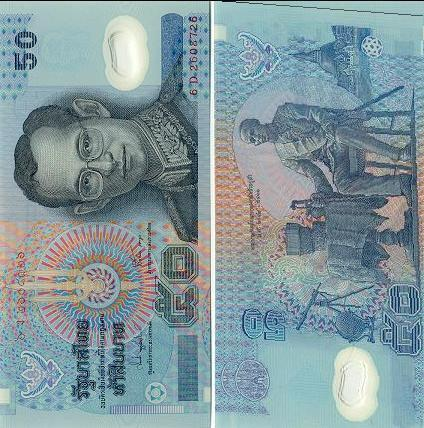50BahtTai: (215, 0, 424, 428)
